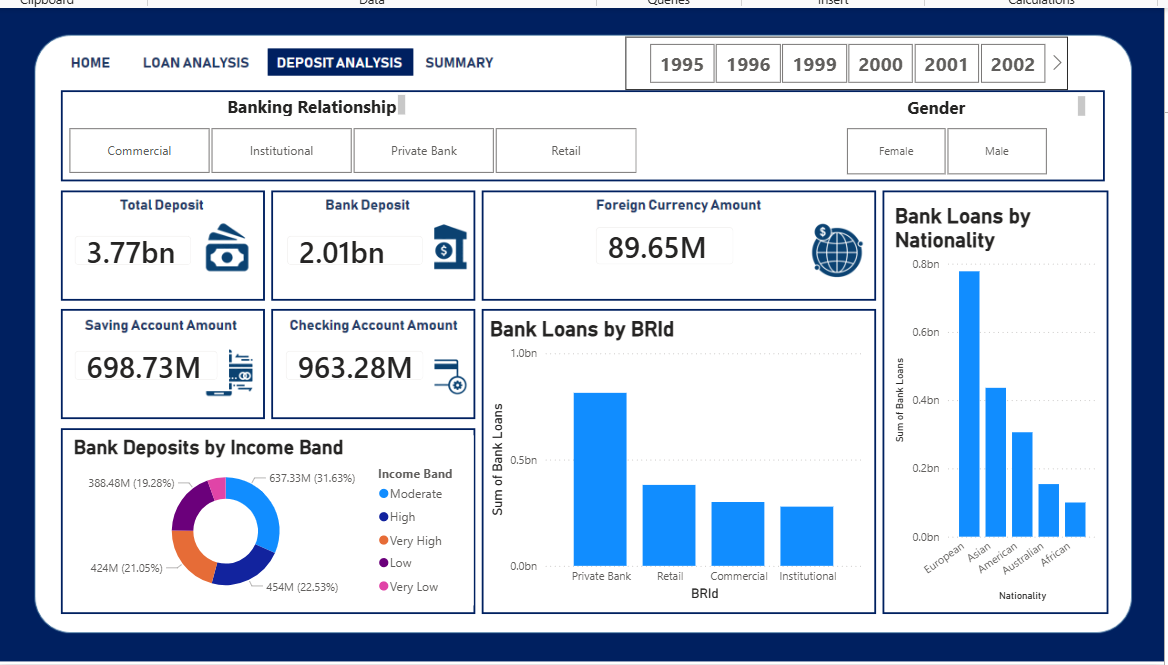

The dashboard page shown, as its layout file describes it:
{"tool":"powerbi","page":{"name":"Deposit Analysis","canvas":[1280,720],"ordinal":2},"visuals":[{"type":"actionButton","box":[51.2,39.1,99.3,40.6],"z":0},{"type":"actionButton","box":[150.4,40.6,132.4,40.6],"z":1000},{"type":"actionButton","box":[282.8,39.1,168.5,40.6],"z":2000},{"type":"actionButton","box":[451.3,42.1,168.5,40.6],"z":3000},{"type":"cardVisual","fields":{"Data":["Clients - Banking.Total Deposit"]},"box":[67.7,233.2,162.5,66.2],"z":4000},{"type":"cardVisual","fields":{"Data":["Sum(Clients - Banking.Bank Deposits)"]},"box":[300.9,233.2,183.5,66.2],"z":5000},{"type":"cardVisual","fields":{"Data":["Sum(Clients - Banking.Saving Accounts)"]},"box":[67.7,359.6,191.1,66.2],"z":6000},{"type":"cardVisual","fields":{"Data":["Sum(Clients - Banking.Checking Accounts)"]},"box":[299.4,359.6,185.1,66.2],"z":7000},{"type":"donutChart","title":"Bank Deposits by Income Band","fields":{"Category":["Clients - Banking.Income Band"],"Y":["Sum(Clients - Banking.Bank Deposits)"]},"box":[78.2,469.4,443.8,186.6],"z":8000},{"type":"cardVisual","fields":{"Data":["Sum(Clients - Banking.Foreign Currency Account)"]},"box":[639.4,224.2,185.1,75.2],"z":9000},{"type":"slicer","fields":{"Values":["Clients - Banking.BRId"]},"box":[52.7,124.9,672.5,63.2],"z":10000},{"type":"slicer","fields":{"Values":["Clients - Banking.GenderId"]},"box":[905.7,124.9,269.3,64.7],"z":11000},{"type":"slicer","fields":{"Values":["Clients - Banking.Year of Joining"]},"box":[688.6,31.4,485.7,58.6],"z":12000},{"type":"clusteredColumnChart","title":"Bank Loans by BRId","fields":{"Category":["Clients - Banking.BRId"],"Y":["Sum(Clients - Banking.Bank Loans)"]},"box":[535.6,338.5,419.7,317.4],"z":13000},{"type":"clusteredColumnChart","title":"Bank Loans by Nationality","fields":{"Y":["Sum(Clients - Banking.Bank Loans)"],"Category":["Clients - Banking.Nationality"]},"box":[979.4,213.6,231.7,442.3],"z":14000},{"type":"textbox","box":[246.7,90.3,204.6,33.1],"z":15000},{"type":"textbox","box":[993,91.8,204.6,33.1],"z":16000}]}

Visuals, with their boxes on the page's 1280x720 design canvas (x1, y1, x2, y2). These are canvas units, not pixel positions in the 1168x665 screenshot, which may show the page scaled, cropped or inside an application window:
actionButton: 51/39/150/80
actionButton: 150/41/283/81
actionButton: 283/39/451/80
actionButton: 451/42/620/83
cardVisual - Clients - Banking.Total Deposit: 68/233/230/299
cardVisual - Sum(Clients - Banking.Bank Deposits): 301/233/484/299
cardVisual - Sum(Clients - Banking.Saving Accounts): 68/360/259/426
cardVisual - Sum(Clients - Banking.Checking Accounts): 299/360/484/426
"Bank Deposits by Income Band" donutChart: 78/469/522/656
cardVisual - Sum(Clients - Banking.Foreign Currency Account): 639/224/824/299
slicer - Clients - Banking.BRId: 53/125/725/188
slicer - Clients - Banking.GenderId: 906/125/1175/190
slicer - Clients - Banking.Year of Joining: 689/31/1174/90
"Bank Loans by BRId" clusteredColumnChart: 536/338/955/656
"Bank Loans by Nationality" clusteredColumnChart: 979/214/1211/656
textbox: 247/90/451/123
textbox: 993/92/1198/125
